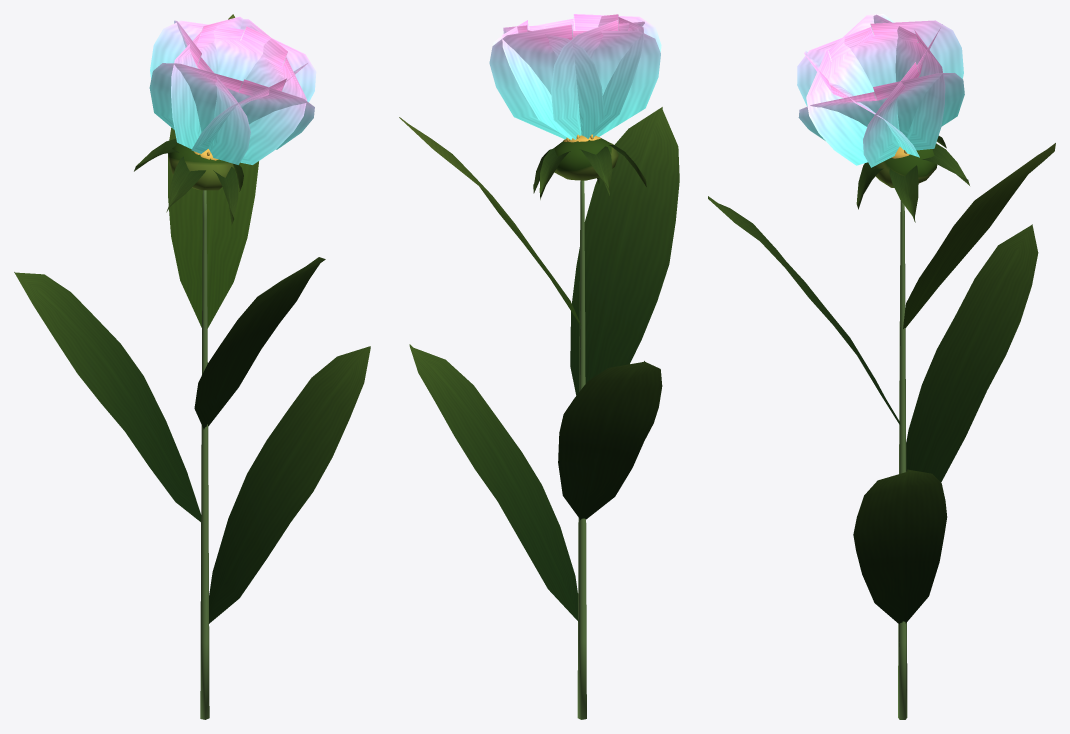
The model's file is tulip-dream-10-lod.glb.
3 views of the same model, side by side, from view 1: azimuth 30°, elevation 25°; view 2: azimuth 150°, elevation 25°; view 3: azimuth 270°, elevation 25° (orthographic).
Visible parts, largest first — view 1: tulip_dream_stage_10_leaf_veins.021, tulip_dream_stage_10_tulip_petal.021, tulip_dream_stage_10_young_leaf.021, tulip_dream_stage_10_stem_fibres.021; view 2: tulip_dream_stage_10_leaf_veins.021, tulip_dream_stage_10_tulip_petal.021, tulip_dream_stage_10_young_leaf.021, tulip_dream_stage_10_stem_fibres.021; view 3: tulip_dream_stage_10_leaf_veins.021, tulip_dream_stage_10_tulip_petal.021, tulip_dream_stage_10_young_leaf.021, tulip_dream_stage_10_stem_fibres.021.
Part boxes in pixels (left/top/right/bottom): tulip_dream_stage_10_leaf_veins.021: left=14, top=139, right=370, bottom=623; tulip_dream_stage_10_tulip_petal.021: left=149, top=16, right=316, bottom=164; tulip_dream_stage_10_young_leaf.021: left=168, top=14, right=258, bottom=328; tulip_dream_stage_10_stem_fibres.021: left=200, top=190, right=209, bottom=719; tulip_dream_stage_10_leaf_veins.021: left=409, top=107, right=679, bottom=621; tulip_dream_stage_10_tulip_petal.021: left=489, top=14, right=661, bottom=139; tulip_dream_stage_10_young_leaf.021: left=399, top=117, right=618, bottom=325; tulip_dream_stage_10_stem_fibres.021: left=577, top=180, right=586, bottom=719; tulip_dream_stage_10_leaf_veins.021: left=708, top=136, right=1038, bottom=624; tulip_dream_stage_10_tulip_petal.021: left=797, top=14, right=964, bottom=167; tulip_dream_stage_10_young_leaf.021: left=874, top=143, right=1055, bottom=328; tulip_dream_stage_10_stem_fibres.021: left=898, top=200, right=907, bottom=719.
Bounding box in the file's own units: 0.2762 × 0.6171 × 0.2809.
Materials: 5 (3 with a texture image).
